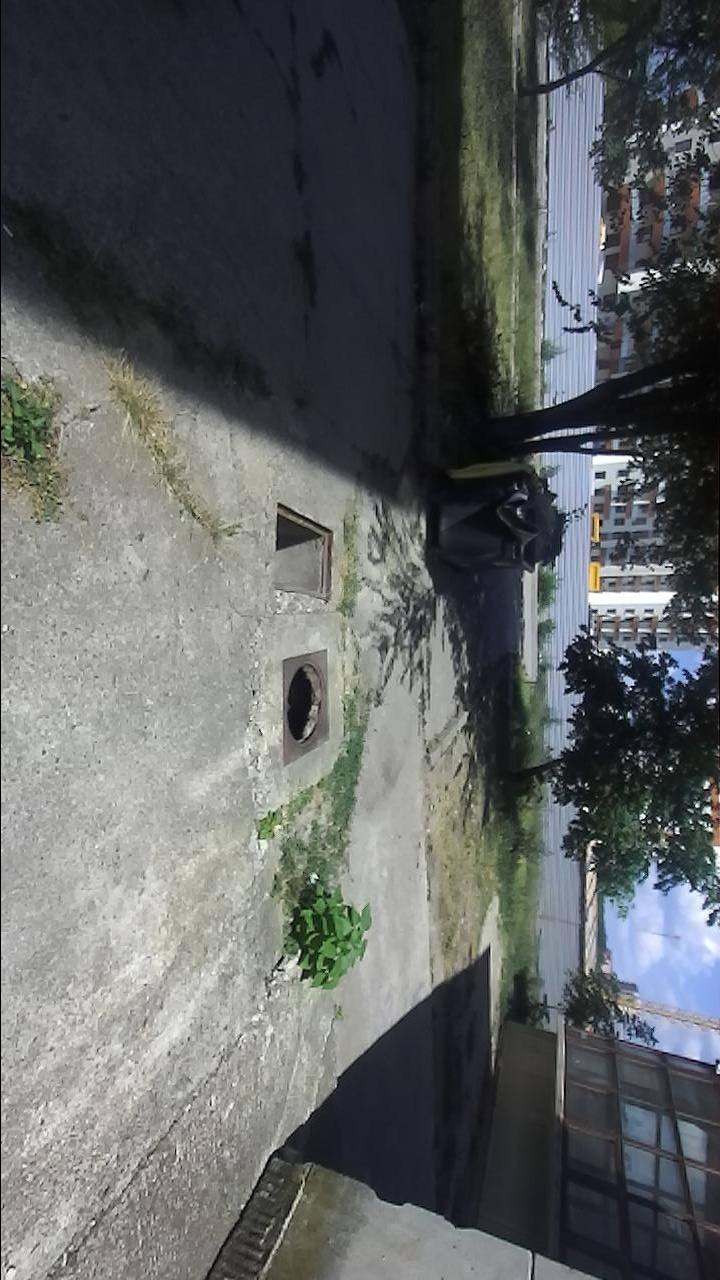drain: (271, 500, 339, 605), (284, 660, 327, 749)
